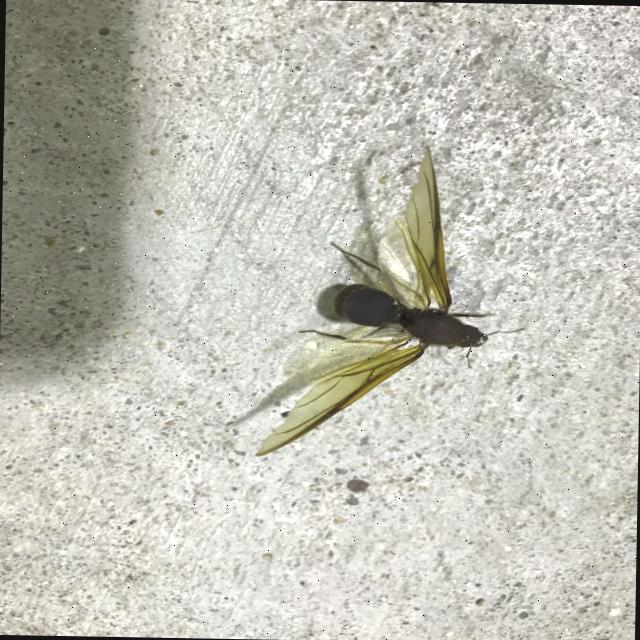Alive-Female-Alate: (252, 142, 532, 464)
